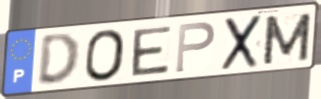D: (35, 31, 82, 88)
E: (131, 24, 174, 78)
M: (260, 11, 314, 67)
O: (84, 27, 128, 83)
P: (173, 20, 217, 75)
X: (219, 12, 264, 73)
